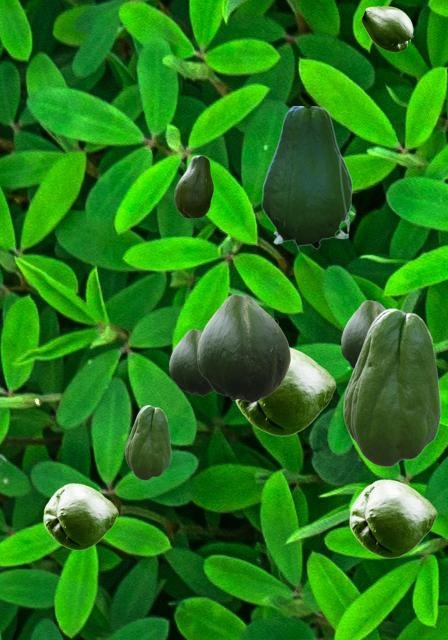sayote: (343, 308, 440, 466), (261, 106, 354, 251), (197, 294, 289, 402), (235, 347, 335, 435), (349, 479, 436, 557), (43, 483, 117, 549), (125, 405, 170, 479), (341, 300, 385, 368), (169, 329, 214, 395), (174, 155, 212, 217), (361, 6, 412, 51)
